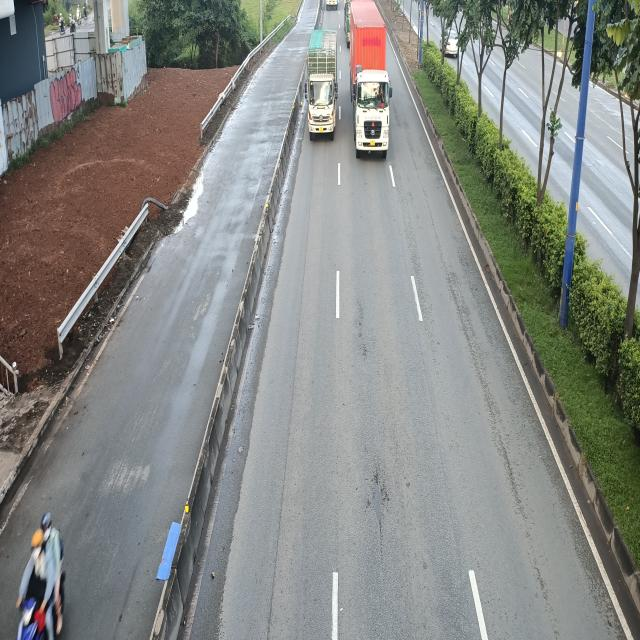container: (351, 1, 393, 160)
truck: (305, 29, 341, 141)
